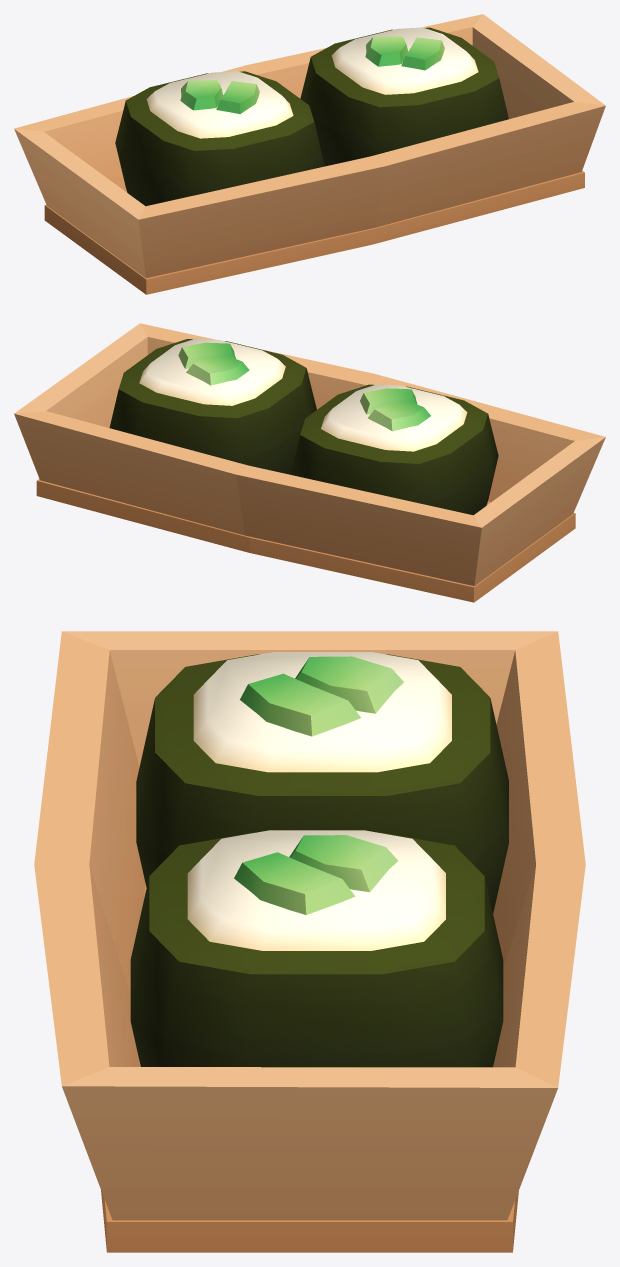
File: Set_1_030.gltf
3 views of the same model, one above another, from view 1: azimuth 30°, elevation 25°; view 2: azimuth 150°, elevation 25°; view 3: azimuth 270°, elevation 25° (orthographic). The views are drawn at different scales.
Parts seen in each view (by area): view 1: Box_Cardboard_Small_001.003, Sushi_Small_Nori_001.001, Sushi_Small_Nori_001.004; view 2: Box_Cardboard_Small_001.003, Sushi_Small_Nori_001.001, Sushi_Small_Nori_001.004; view 3: Box_Cardboard_Small_001.003, Sushi_Small_Nori_001.004, Sushi_Small_Nori_001.001.
Part boxes in pixels (left/top/right/bottom): Box_Cardboard_Small_001.003: left=14, top=14, right=605, bottom=294; Sushi_Small_Nori_001.001: left=115, top=71, right=324, bottom=206; Sushi_Small_Nori_001.004: left=300, top=27, right=508, bottom=166; Box_Cardboard_Small_001.003: left=14, top=323, right=605, bottom=602; Sushi_Small_Nori_001.001: left=291, top=384, right=498, bottom=515; Sushi_Small_Nori_001.004: left=109, top=338, right=316, bottom=474; Box_Cardboard_Small_001.003: left=34, top=631, right=585, bottom=1252; Sushi_Small_Nori_001.004: left=130, top=830, right=503, bottom=1067; Sushi_Small_Nori_001.001: left=136, top=652, right=508, bottom=913.
Bounding box in the file's own units: 1.96 × 0.5346 × 1.
1 material, 1 textured.
